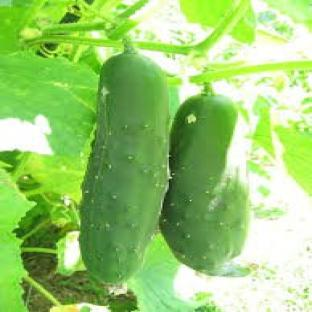Cucumber: (81, 52, 168, 283), (160, 96, 249, 273)
